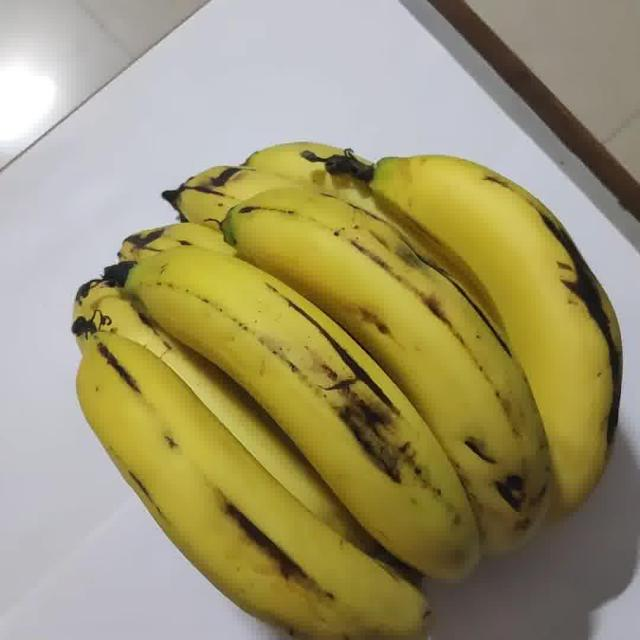Banana: (72, 142, 622, 639)
